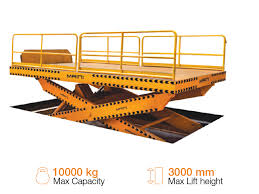Scissor Lift: (9, 30, 229, 145)
